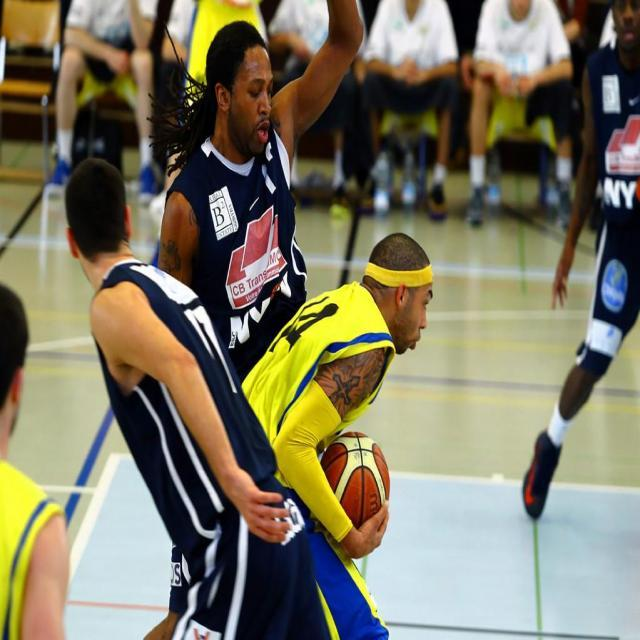rim: (326, 426, 393, 532)
